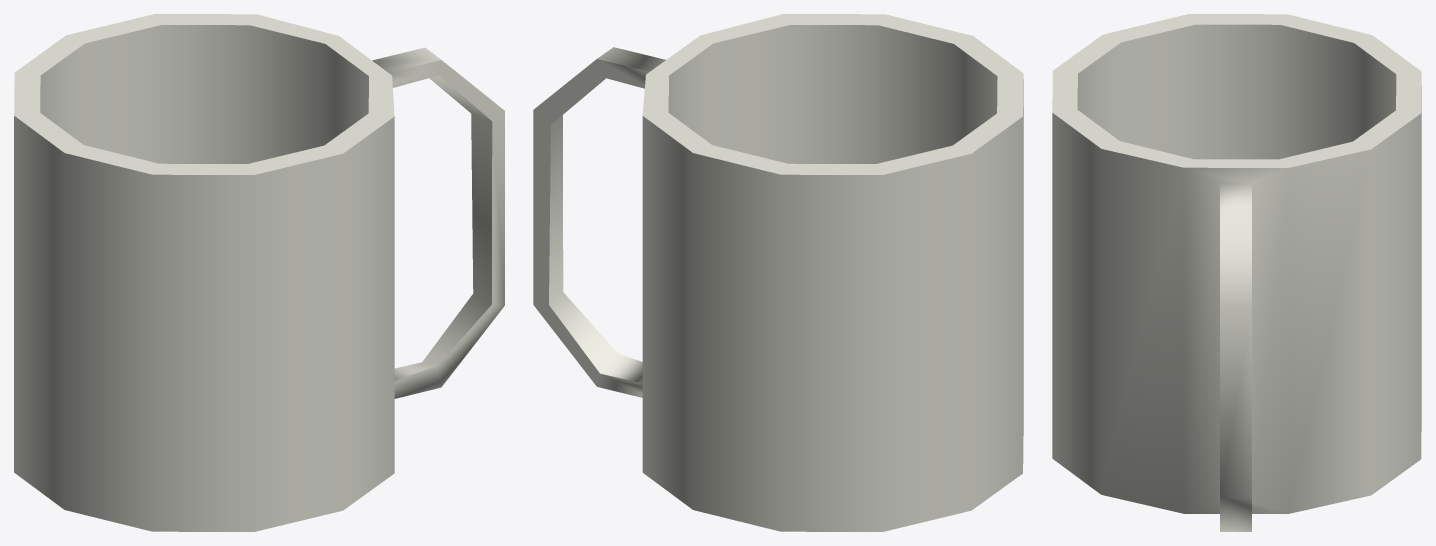
Rendered from Mug_Text.fbx.
The picture shows the model from 3 angles, left to right: view 1: azimuth 30°, elevation 25°; view 2: azimuth 150°, elevation 25°; view 3: azimuth 270°, elevation 25°; orthographic projection. The views are drawn at different scales.
Parts seen in each view (by area): view 1: Mug; view 2: Mug; view 3: Mug.
Part boxes in pixels (<box>): Mug: <box>14,14,504,531</box>; Mug: <box>533,14,1023,531</box>; Mug: <box>1052,14,1421,531</box>.
Bounding box in the file's own units: 17.55 × 13.11 × 12.68.
1 material, 1 textured.
